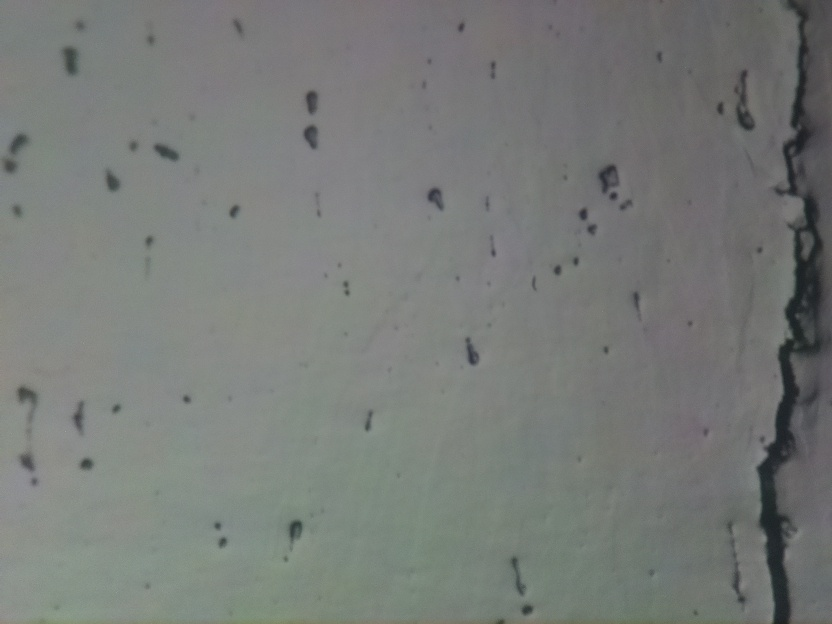crack: (765, 0, 821, 623)
